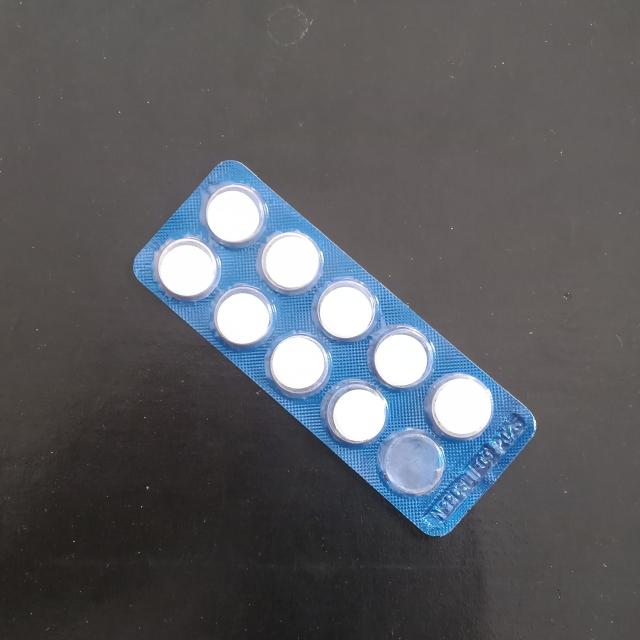defect: (382, 433, 445, 498)
